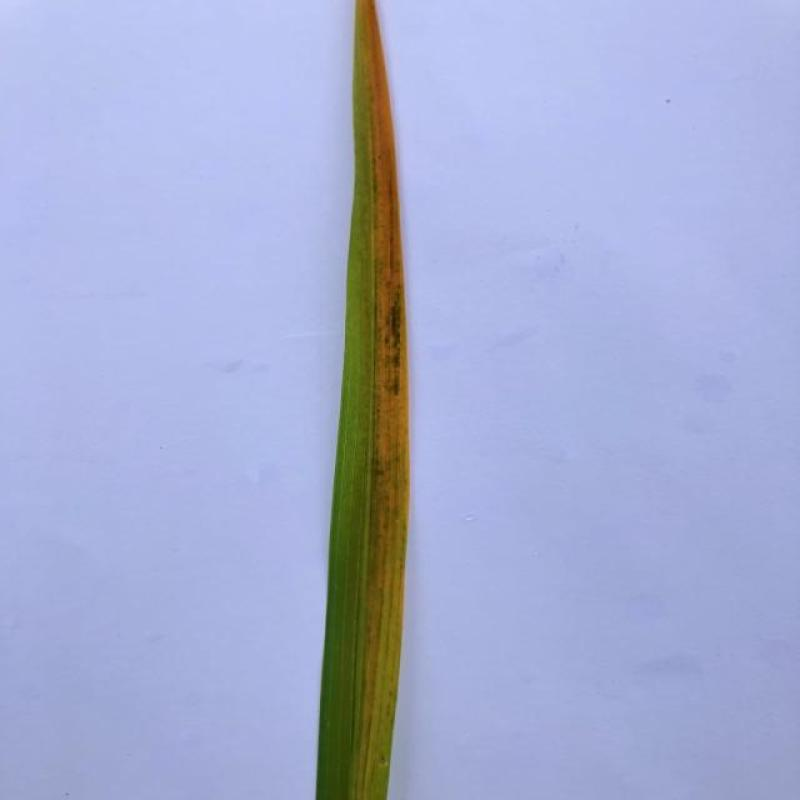Rice Tungro: (316, 0, 425, 800)
